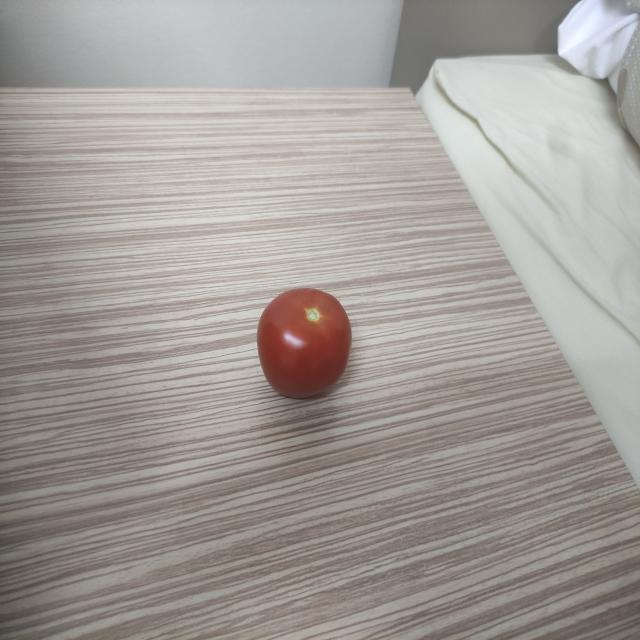kirmizi: (246, 269, 363, 406)
